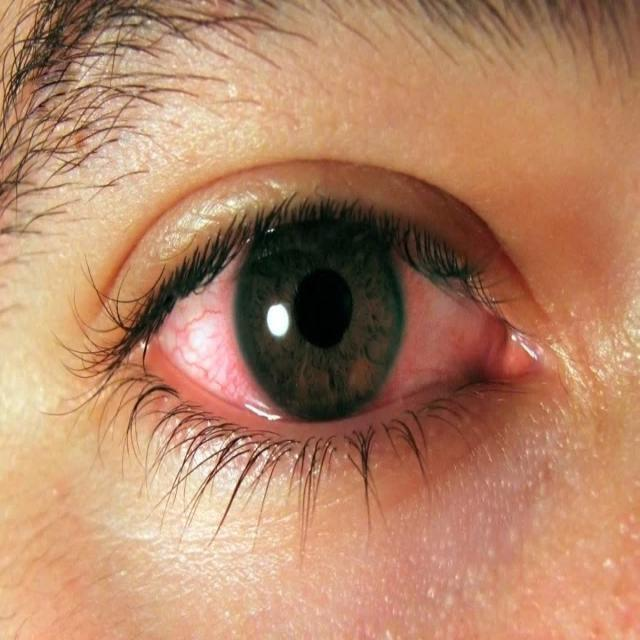Conjunctivitis: (138, 246, 540, 418)
